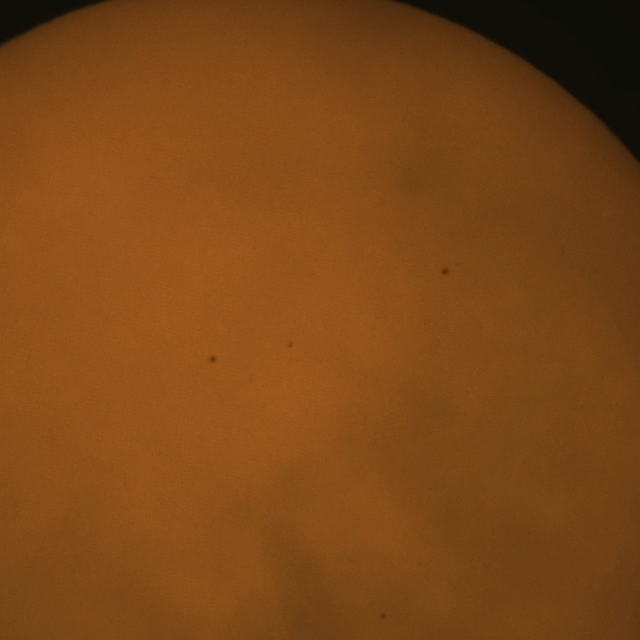sunspot: (207, 353, 218, 366), (440, 266, 450, 277), (378, 611, 388, 621), (286, 339, 295, 350)
